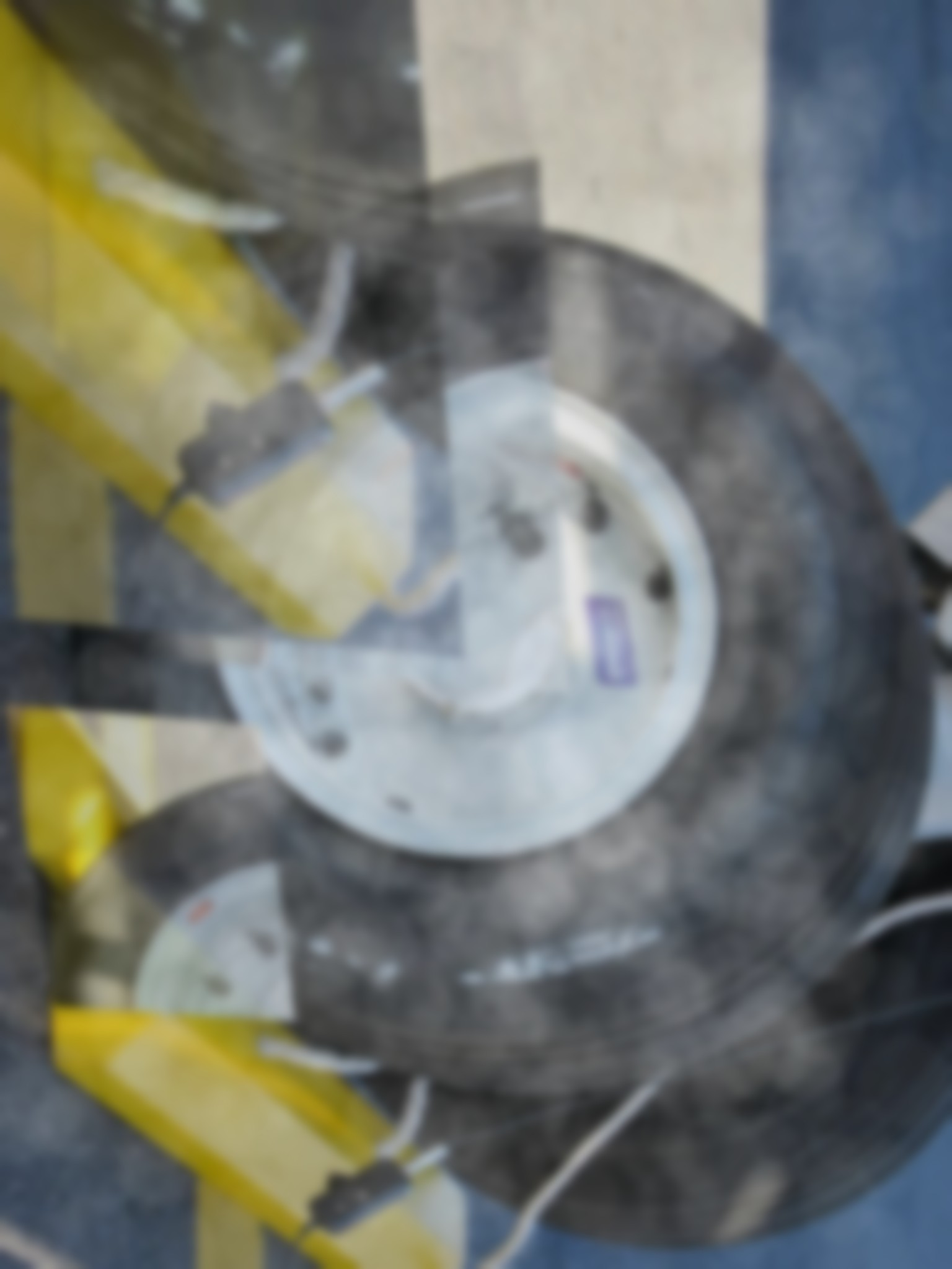chock: (14, 0, 570, 694), (0, 0, 465, 658), (29, 103, 446, 625), (17, 842, 500, 1269), (6, 704, 295, 1021)
wheel: (11, 160, 937, 1111), (371, 798, 952, 1259)
